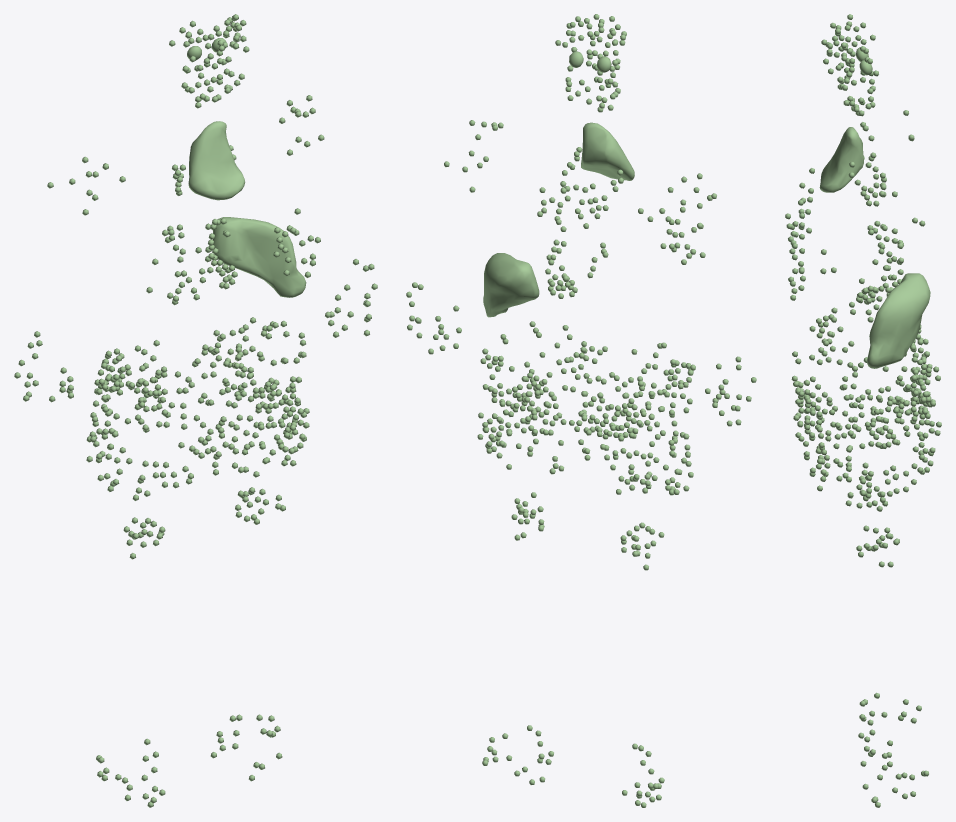
File: pediatric_child_5y_female.lymphatic.LOD1.glb
The picture shows the model from 3 angles, left to right: view 1: azimuth 30°, elevation 25°; view 2: azimuth 150°, elevation 25°; view 3: azimuth 270°, elevation 25°; orthographic projection. The views are drawn at different scales.
Visible parts, largest first — view 1: PEDIATRIC.CHILD_5Y.FEMALE.LYMPHATIC.LYMPHATIC_NODES_TRUNK, PEDIATRIC.CHILD_5Y.FEMALE.LYMPHATIC.SPLEEN, PEDIATRIC.CHILD_5Y.FEMALE.LYMPHATIC.THYMUS, PEDIATRIC.CHILD_5Y.FEMALE.LYMPHATIC.LYMPHATIC_NODES_ET, PEDIATRIC.CHILD_5Y.FEMALE.LYMPHATIC.LYMPHATIC_NODES_THORACIC, PEDIATRIC.CHILD_5Y.FEMALE.LYMPHATIC.LYMPHATIC_NODES_LEGS, PEDIATRIC.CHILD_5Y.FEMALE.LYMPHATIC.LYMPHATIC_NODES_ARMS; view 2: PEDIATRIC.CHILD_5Y.FEMALE.LYMPHATIC.LYMPHATIC_NODES_TRUNK, PEDIATRIC.CHILD_5Y.FEMALE.LYMPHATIC.SPLEEN, PEDIATRIC.CHILD_5Y.FEMALE.LYMPHATIC.THYMUS, PEDIATRIC.CHILD_5Y.FEMALE.LYMPHATIC.LYMPHATIC_NODES_ET, PEDIATRIC.CHILD_5Y.FEMALE.LYMPHATIC.LYMPHATIC_NODES_THORACIC, PEDIATRIC.CHILD_5Y.FEMALE.LYMPHATIC.LYMPHATIC_NODES_ARMS, PEDIATRIC.CHILD_5Y.FEMALE.LYMPHATIC.LYMPHATIC_NODES_LEGS; view 3: PEDIATRIC.CHILD_5Y.FEMALE.LYMPHATIC.LYMPHATIC_NODES_TRUNK, PEDIATRIC.CHILD_5Y.FEMALE.LYMPHATIC.SPLEEN, PEDIATRIC.CHILD_5Y.FEMALE.LYMPHATIC.THYMUS, PEDIATRIC.CHILD_5Y.FEMALE.LYMPHATIC.LYMPHATIC_NODES_THORACIC, PEDIATRIC.CHILD_5Y.FEMALE.LYMPHATIC.LYMPHATIC_NODES_ET, PEDIATRIC.CHILD_5Y.FEMALE.LYMPHATIC.LYMPHATIC_NODES_LEGS, PEDIATRIC.CHILD_5Y.FEMALE.LYMPHATIC.LYMPHATIC_NODES_ARMS, PEDIATRIC.CHILD_5Y.FEMALE.LYMPHATIC.LYMPHATIC_NODES_HEAD.
Part boxes in pixels (<box>): PEDIATRIC.CHILD_5Y.FEMALE.LYMPHATIC.LYMPHATIC_NODES_TRUNK: <box>47,95,324,559</box>; PEDIATRIC.CHILD_5Y.FEMALE.LYMPHATIC.SPLEEN: <box>213,217,306,297</box>; PEDIATRIC.CHILD_5Y.FEMALE.LYMPHATIC.THYMUS: <box>188,121,245,200</box>; PEDIATRIC.CHILD_5Y.FEMALE.LYMPHATIC.LYMPHATIC_NODES_ET: <box>169,14,249,85</box>; PEDIATRIC.CHILD_5Y.FEMALE.LYMPHATIC.LYMPHATIC_NODES_THORACIC: <box>165,145,237,289</box>; PEDIATRIC.CHILD_5Y.FEMALE.LYMPHATIC.LYMPHATIC_NODES_LEGS: <box>96,714,282,807</box>; PEDIATRIC.CHILD_5Y.FEMALE.LYMPHATIC.LYMPHATIC_NODES_ARMS: <box>14,259,377,402</box>; PEDIATRIC.CHILD_5Y.FEMALE.LYMPHATIC.LYMPHATIC_NODES_TRUNK: <box>444,120,716,570</box>; PEDIATRIC.CHILD_5Y.FEMALE.LYMPHATIC.SPLEEN: <box>483,253,539,317</box>; PEDIATRIC.CHILD_5Y.FEMALE.LYMPHATIC.THYMUS: <box>581,122,634,180</box>; PEDIATRIC.CHILD_5Y.FEMALE.LYMPHATIC.LYMPHATIC_NODES_ET: <box>555,14,626,90</box>; PEDIATRIC.CHILD_5Y.FEMALE.LYMPHATIC.LYMPHATIC_NODES_THORACIC: <box>545,147,623,298</box>; PEDIATRIC.CHILD_5Y.FEMALE.LYMPHATIC.LYMPHATIC_NODES_ARMS: <box>406,282,756,426</box>; PEDIATRIC.CHILD_5Y.FEMALE.LYMPHATIC.LYMPHATIC_NODES_LEGS: <box>482,725,664,807</box>; PEDIATRIC.CHILD_5Y.FEMALE.LYMPHATIC.LYMPHATIC_NODES_TRUNK: <box>785,85,941,567</box>; PEDIATRIC.CHILD_5Y.FEMALE.LYMPHATIC.SPLEEN: <box>867,273,930,368</box>; PEDIATRIC.CHILD_5Y.FEMALE.LYMPHATIC.THYMUS: <box>819,127,863,192</box>; PEDIATRIC.CHILD_5Y.FEMALE.LYMPHATIC.LYMPHATIC_NODES_THORACIC: <box>848,152,903,304</box>; PEDIATRIC.CHILD_5Y.FEMALE.LYMPHATIC.LYMPHATIC_NODES_ET: <box>821,14,878,90</box>; PEDIATRIC.CHILD_5Y.FEMALE.LYMPHATIC.LYMPHATIC_NODES_LEGS: <box>858,692,928,807</box>; PEDIATRIC.CHILD_5Y.FEMALE.LYMPHATIC.LYMPHATIC_NODES_ARMS: <box>855,234,902,448</box>; PEDIATRIC.CHILD_5Y.FEMALE.LYMPHATIC.LYMPHATIC_NODES_HEAD: <box>837,71,873,116</box>.
Size of the model in its own units: 0.3441 by 0.7251 by 0.1358.
